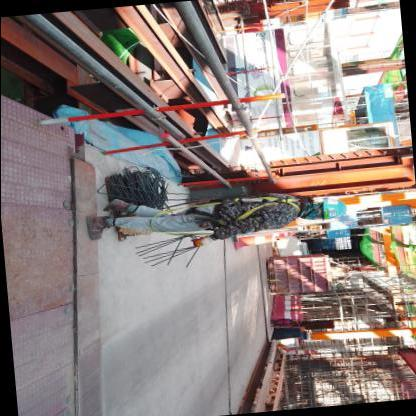safety-shoe: (79, 213, 113, 247), (99, 196, 126, 220)
